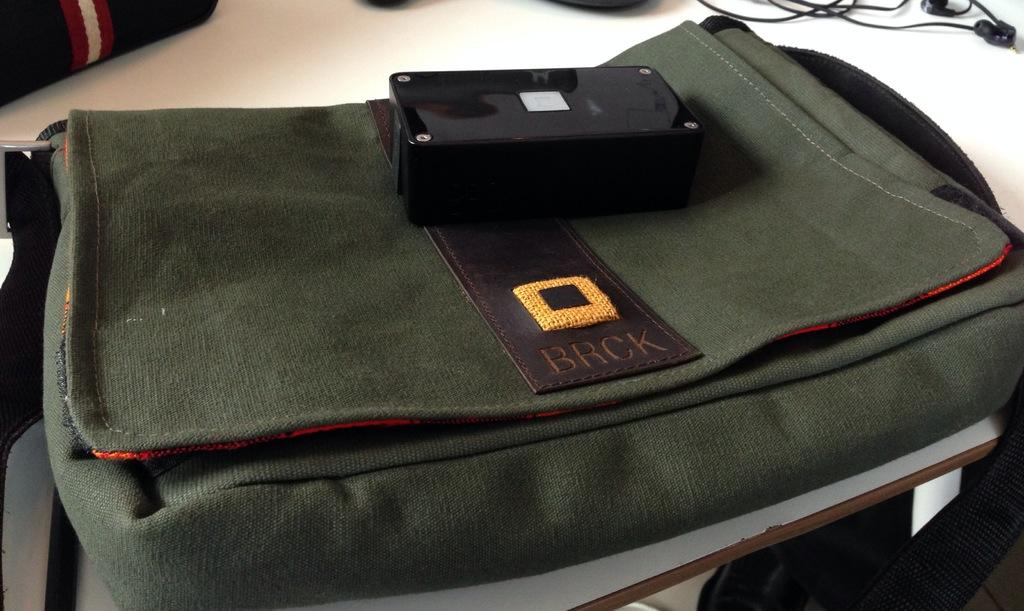Luggage-and-bags: (0, 13, 1023, 610)
